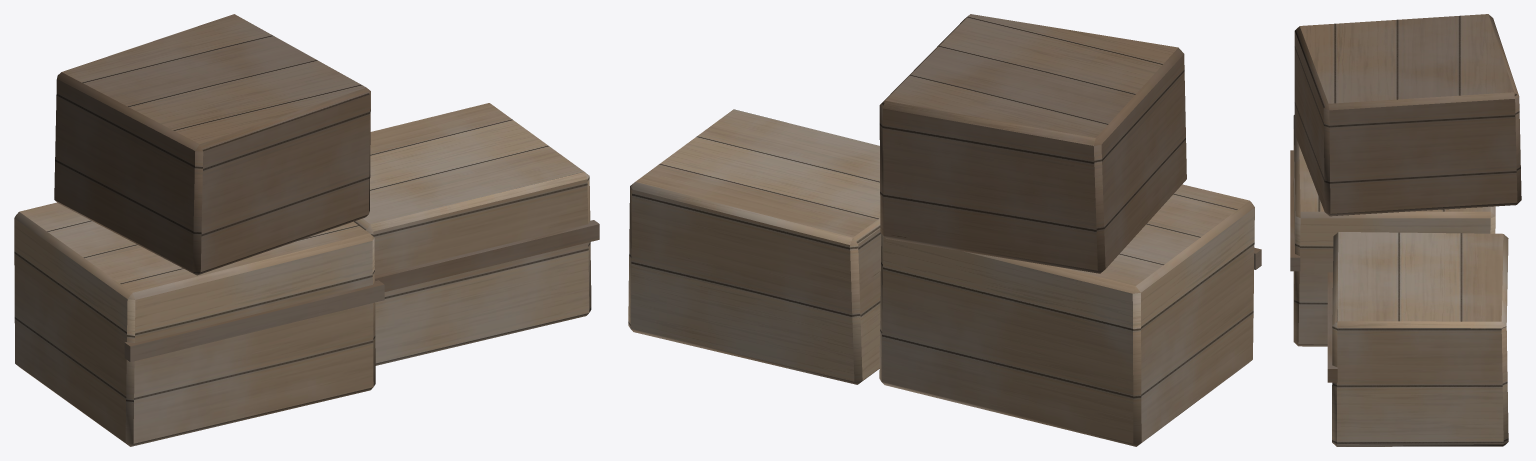
File: crate_stack.glb
The picture shows the model from 3 angles, left to right: view 1: azimuth 30°, elevation 25°; view 2: azimuth 150°, elevation 25°; view 3: azimuth 270°, elevation 25°; orthographic projection. The views are drawn at different scales.
Parts seen in each view (by area): view 1: crate_stack; view 2: crate_stack; view 3: crate_stack.
Boxes of the visible parts, x1,y1,x2,y2 form: crate_stack: [14, 14, 599, 446]; crate_stack: [628, 14, 1261, 446]; crate_stack: [1290, 14, 1521, 446].
Size of what is drawn, in the model's own units: 1.97 by 1.1 by 0.9281.
Materials: 2 (2 with a texture image).
